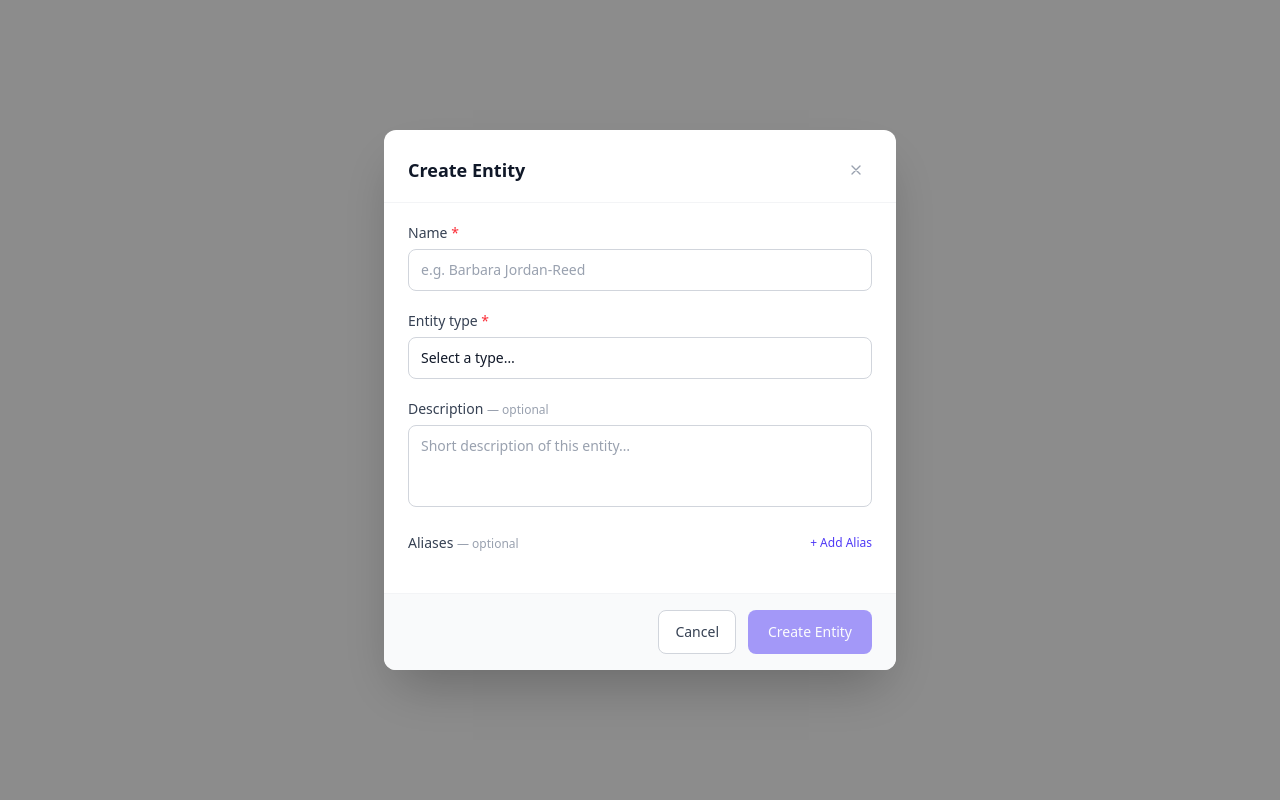
Test: CreateEntityModal › Tag selection (FR-004) › clears the tag chip and shows 'Creating standalone entity' when name is edited after selection (FR-004 mode transition)
Type "alex" into the dropdown labelled "Name *".
click(640, 270); type("alex")  # box [408, 249, 872, 291]
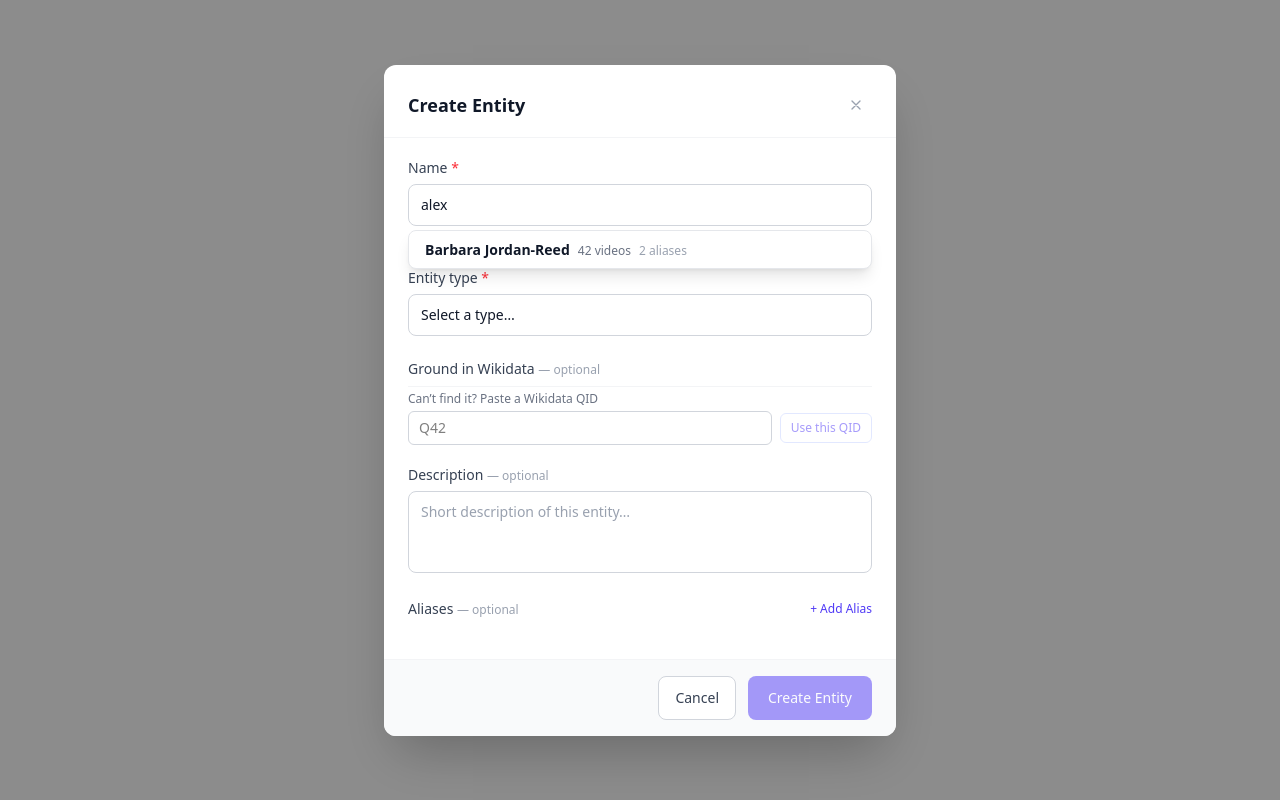
Click the option "Barbara Jordan-Reed 42 videos 2 aliases".
click(556, 249)  # box [425, 240, 687, 258]
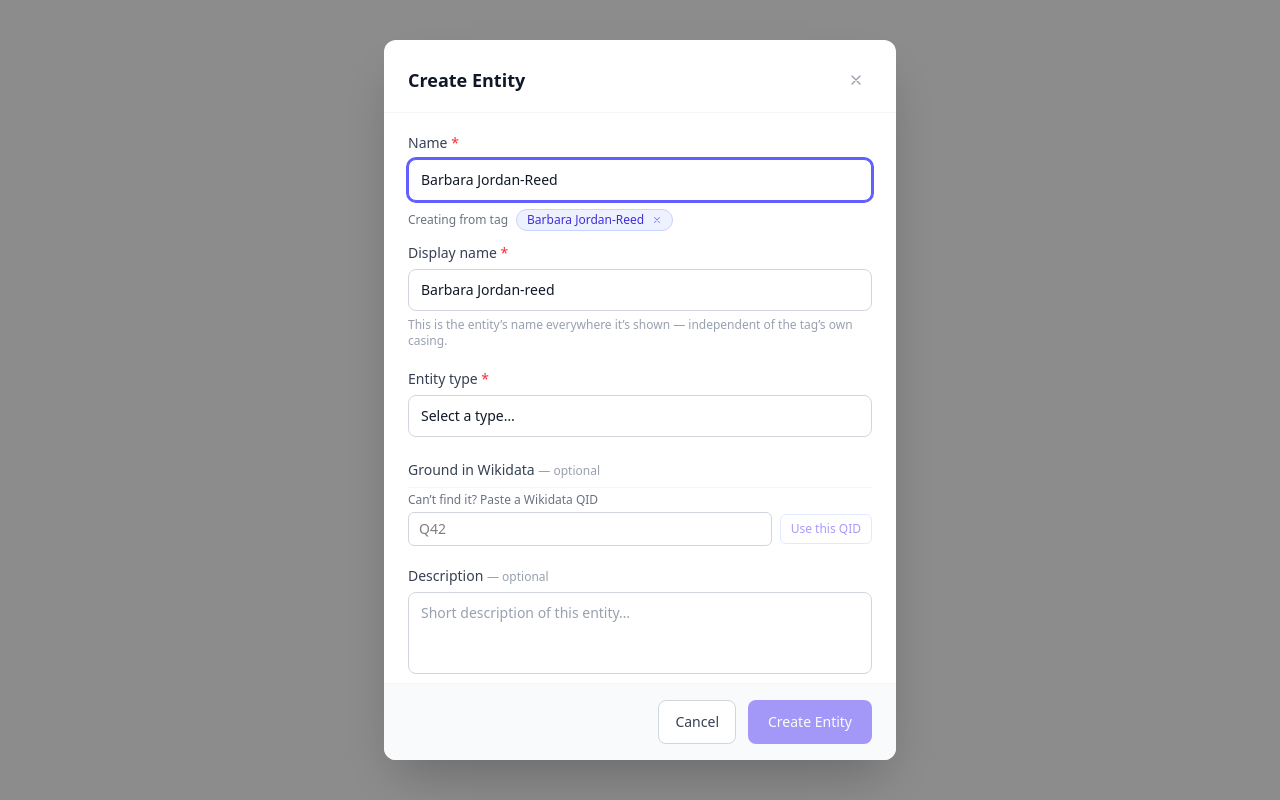
# Edit the name — triggers FR-004 mode transition
Replace the text in the dropdown labelled "Name *" with "barbara modified" at point(640, 180), box [408, 159, 872, 201]
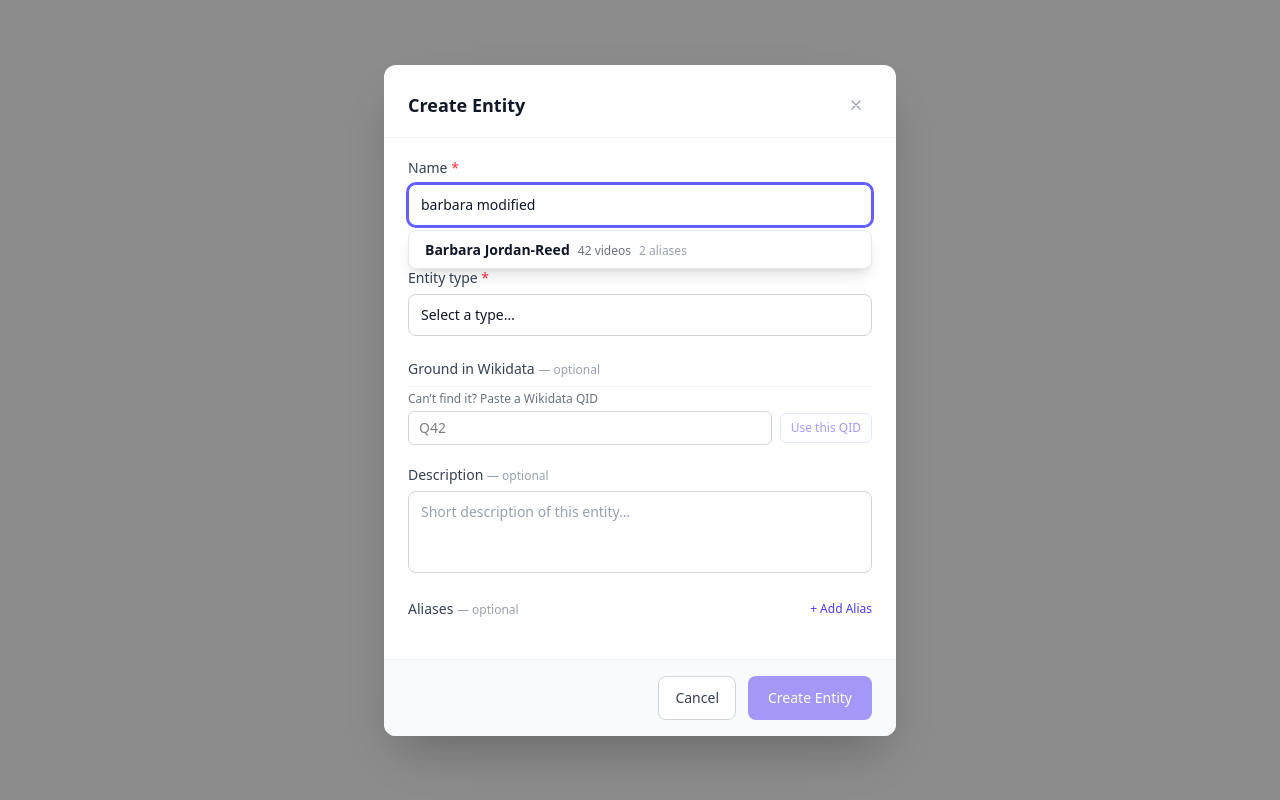
Now the text "Creating from tag" is gone
